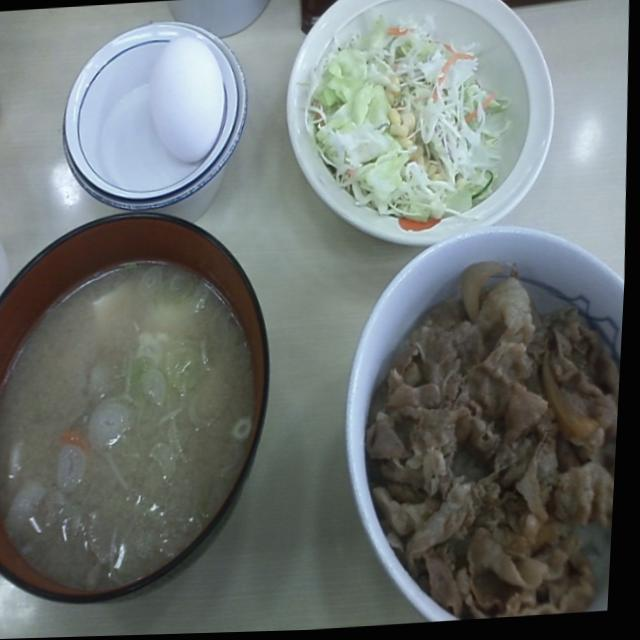蔬菜料理: (0, 242, 281, 613), (292, 0, 546, 247)
